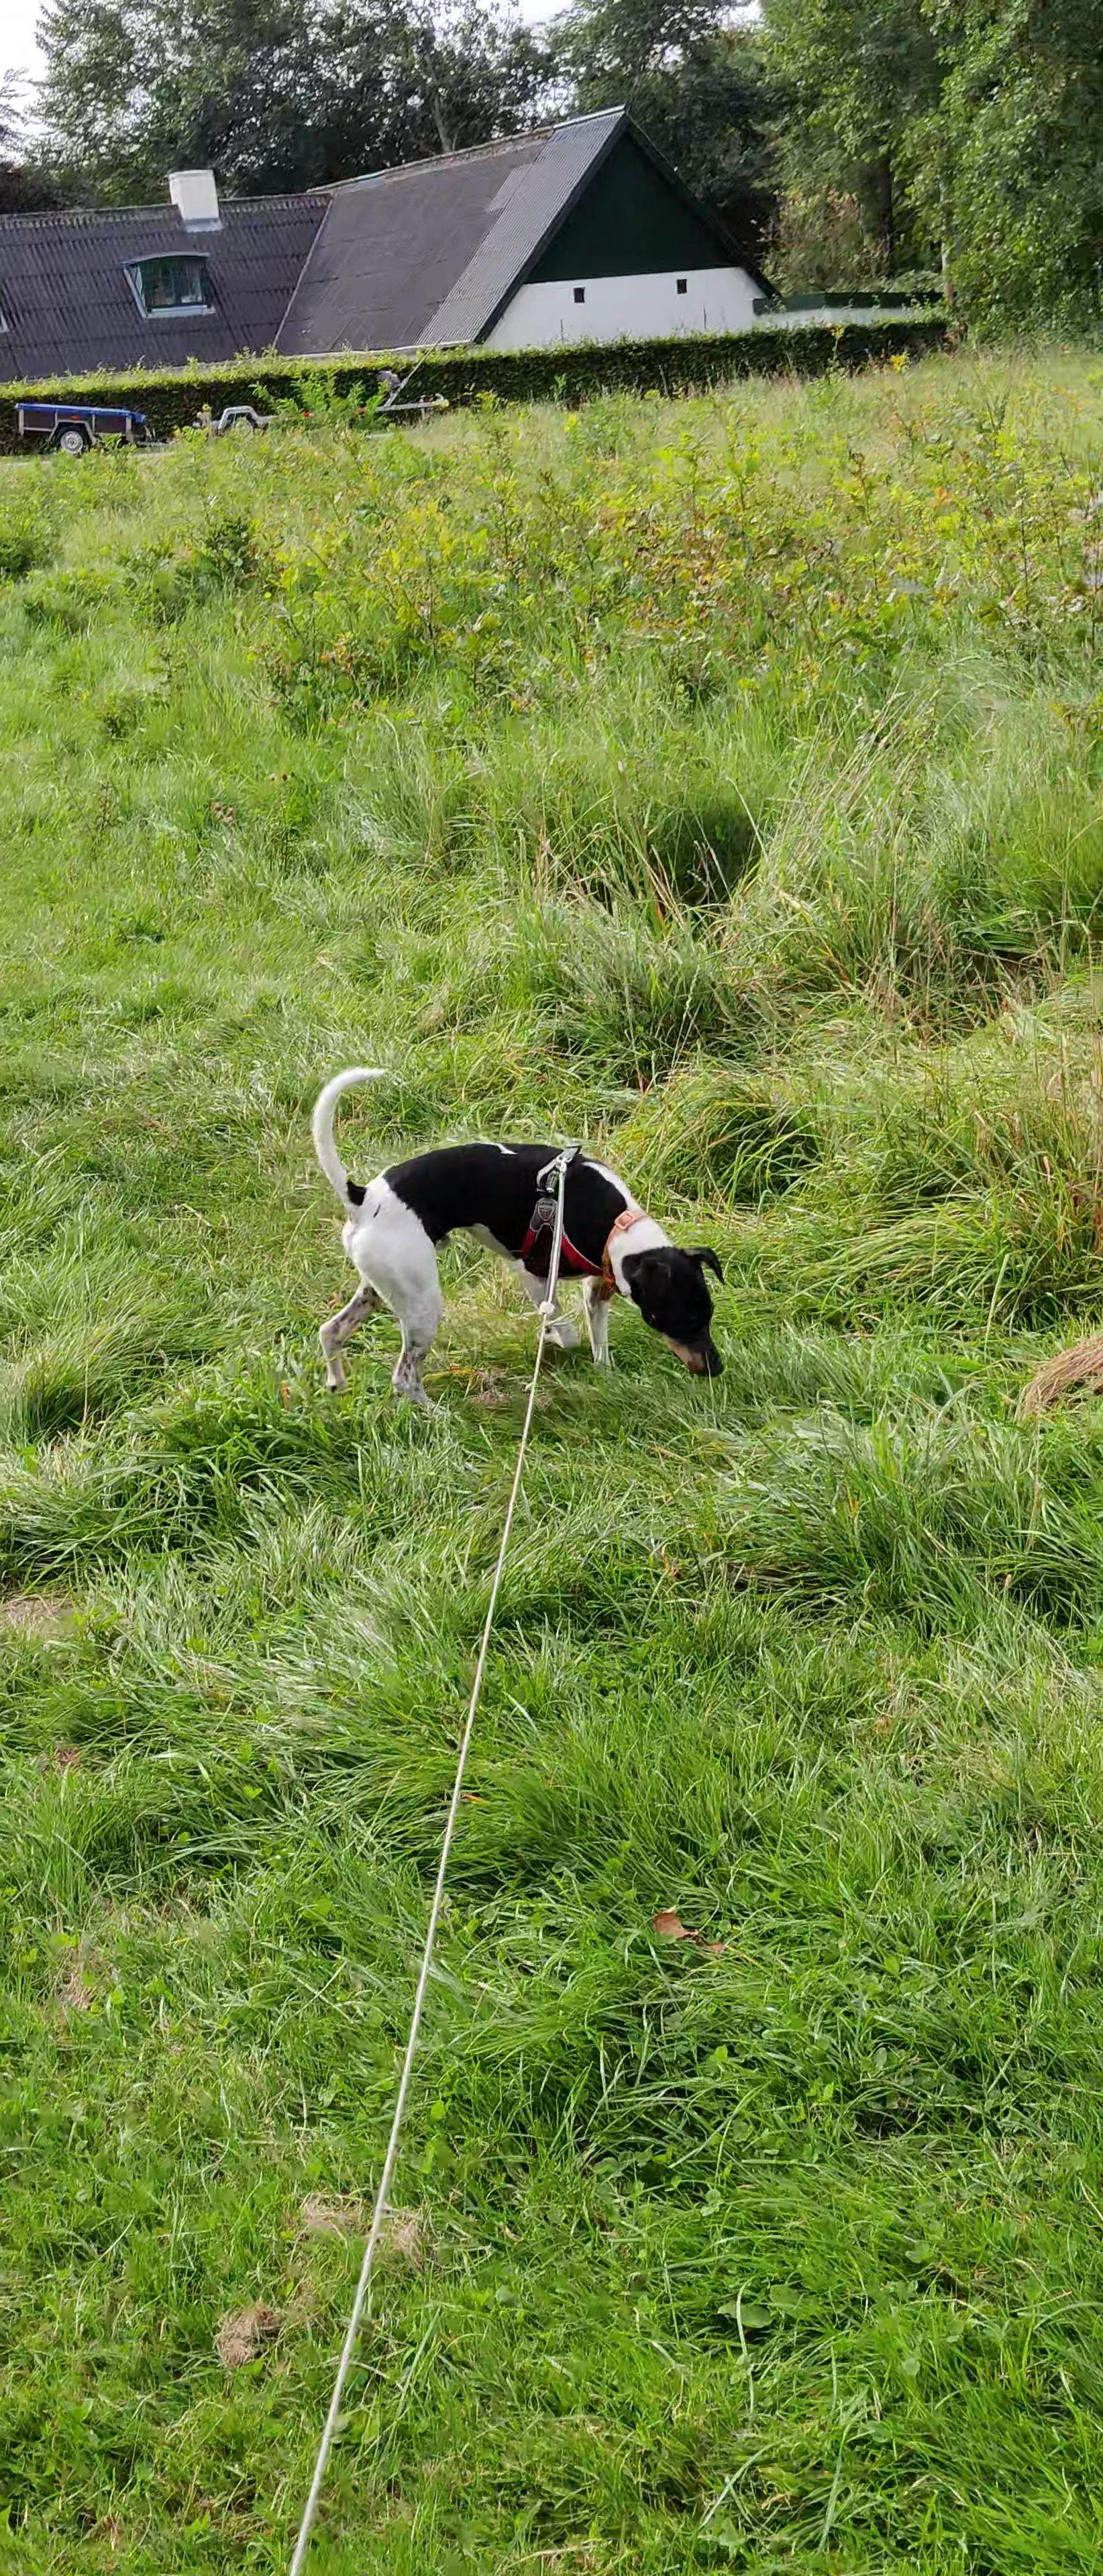Dog: (289, 1055, 753, 1411)
